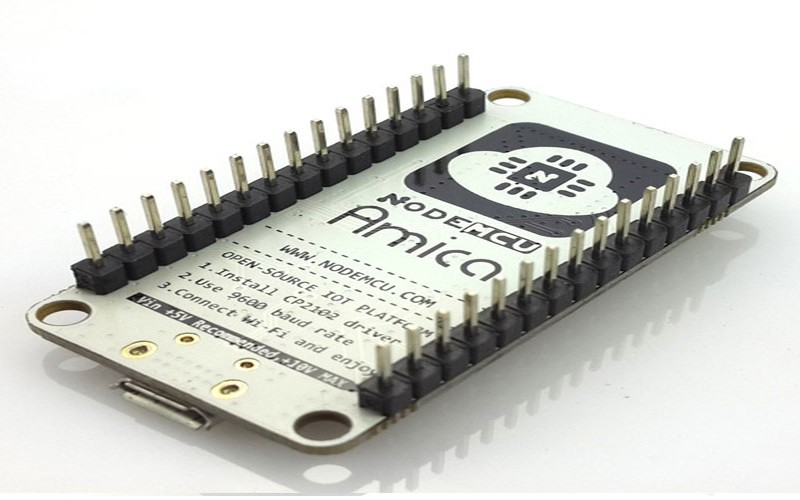IoT Sensor: (15, 42, 789, 465)
